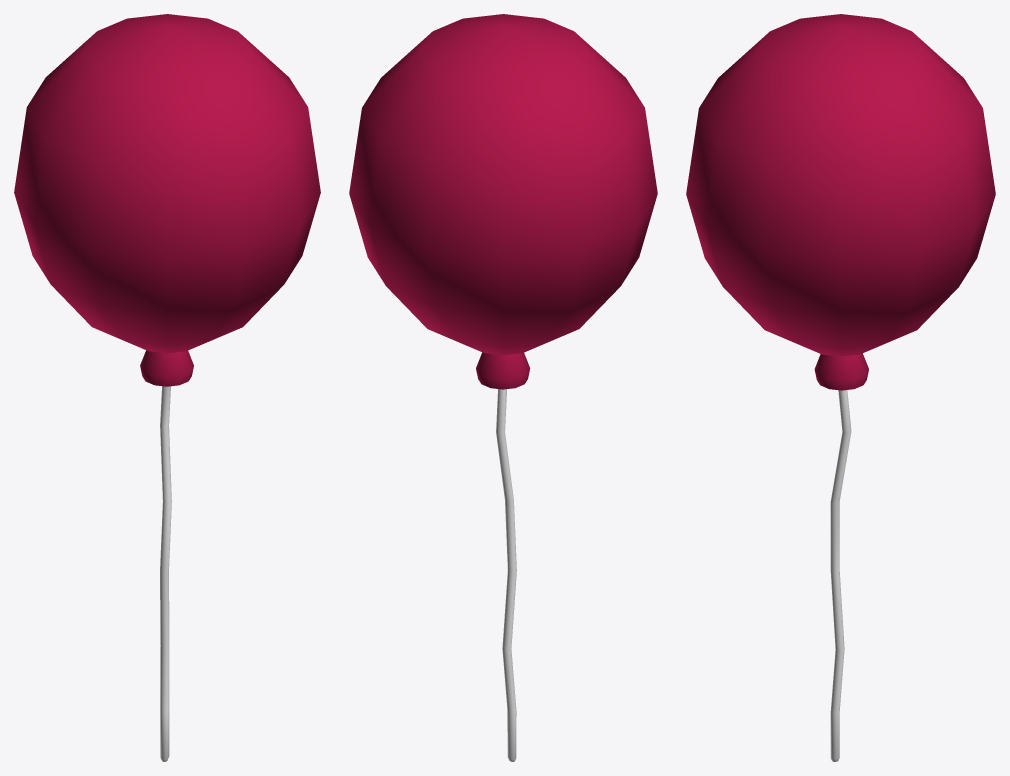
Rendered from Pungsun2-3.fbx.
3 renders of one model, left to right at view 1: azimuth 30°, elevation 25°; view 2: azimuth 150°, elevation 25°; view 3: azimuth 270°, elevation 25°, orthographic.
Parts seen in each view (by area): view 1: Pungsun2-3; view 2: Pungsun2-3; view 3: Pungsun2-3.
Boxes of the visible parts, x1=… form: Pungsun2-3: x1=14, y1=14, x2=320, y2=761; Pungsun2-3: x1=349, y1=14, x2=657, y2=761; Pungsun2-3: x1=686, y1=14, x2=995, y2=761.
Bounding box in the file's own units: 0.1547 × 0.4067 × 0.1547.
